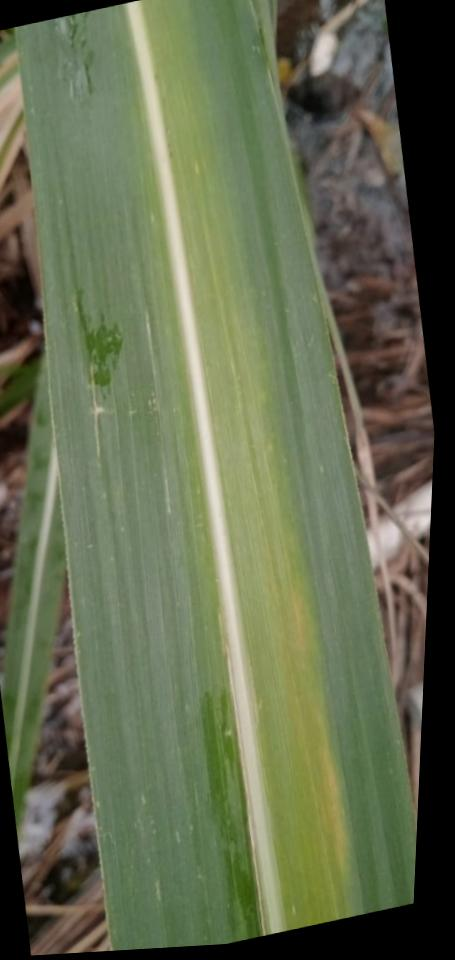Yellow: (318, 742, 348, 874), (289, 597, 305, 649)
